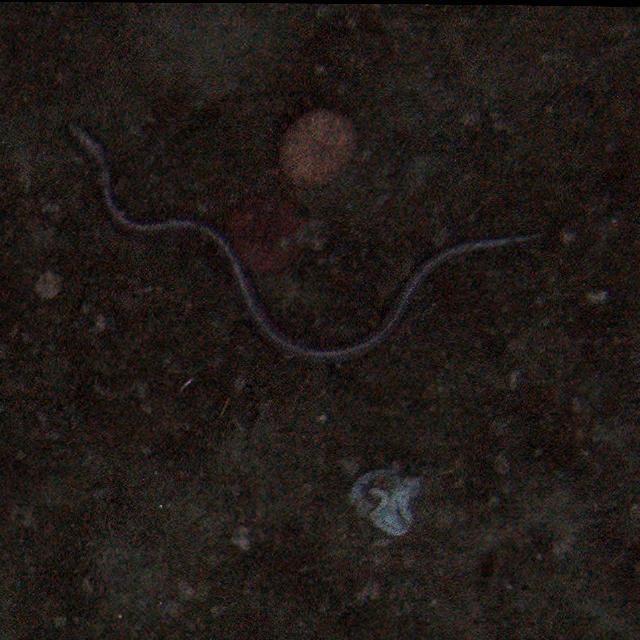eel: (70, 120, 544, 366)
